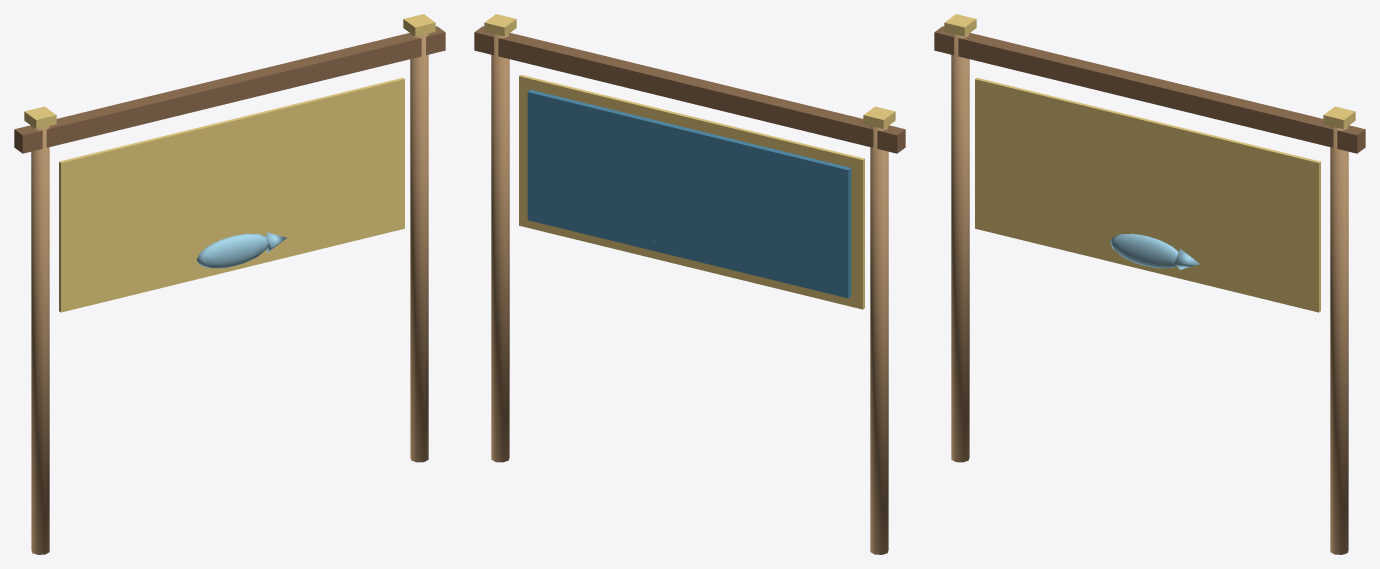
File: FishingSign.glb
The picture shows the model from 3 angles, left to right: view 1: azimuth 30°, elevation 25°; view 2: azimuth 150°, elevation 25°; view 3: azimuth 330°, elevation 25°; orthographic projection.
Parts seen in each view (by area): view 1: Frame, Beam, PostR, PostL, FishBody, CapR, CapL; view 2: Board, Beam, Frame, PostR, PostL, CapR, CapL; view 3: Frame, Beam, PostL, PostR, FishBody, CapL, CapR.
Boxes of the visible parts, x1,y1,x2,y2 form: Frame: (59, 77, 404, 312); Beam: (14, 26, 445, 153); PostR: (410, 33, 428, 462); PostL: (31, 126, 49, 554); FishBody: (197, 233, 268, 268); CapR: (403, 14, 435, 36); CapL: (24, 106, 56, 128); Board: (527, 90, 851, 298); Beam: (474, 26, 905, 153); Frame: (519, 75, 864, 309); PostR: (491, 33, 509, 462); PostL: (870, 126, 888, 554); CapR: (484, 14, 516, 36); CapL: (863, 106, 895, 128); Frame: (975, 77, 1320, 312); Beam: (934, 26, 1365, 153); PostL: (951, 33, 969, 462); PostR: (1330, 126, 1348, 554); FishBody: (1110, 233, 1178, 268); CapL: (944, 14, 976, 36); CapR: (1323, 106, 1355, 128).
Size of the model in its own units: 14.5 by 14.35 by 0.9.
